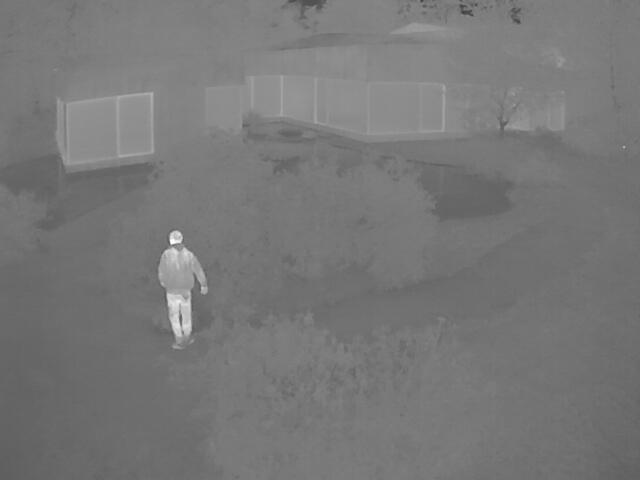person: (156, 230, 206, 349)
